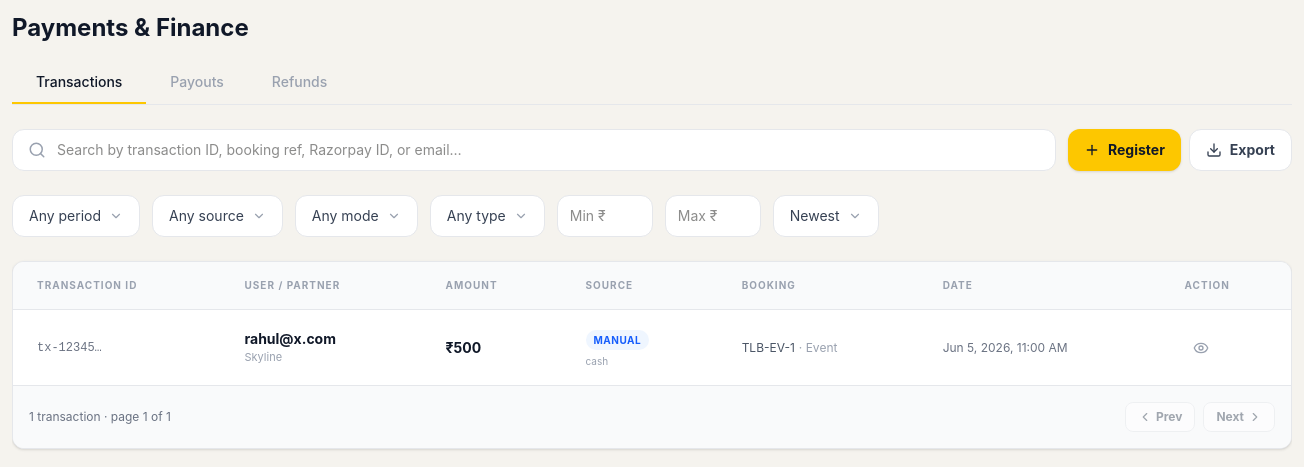
Test: PaymentsFinance › shows a coming-soon state for the Payouts tab
Expected: the text "rahul@x.com" is shown, [244,330,336,347]
Click the button "Payouts" at point(197, 82), box [146,60,248,104]
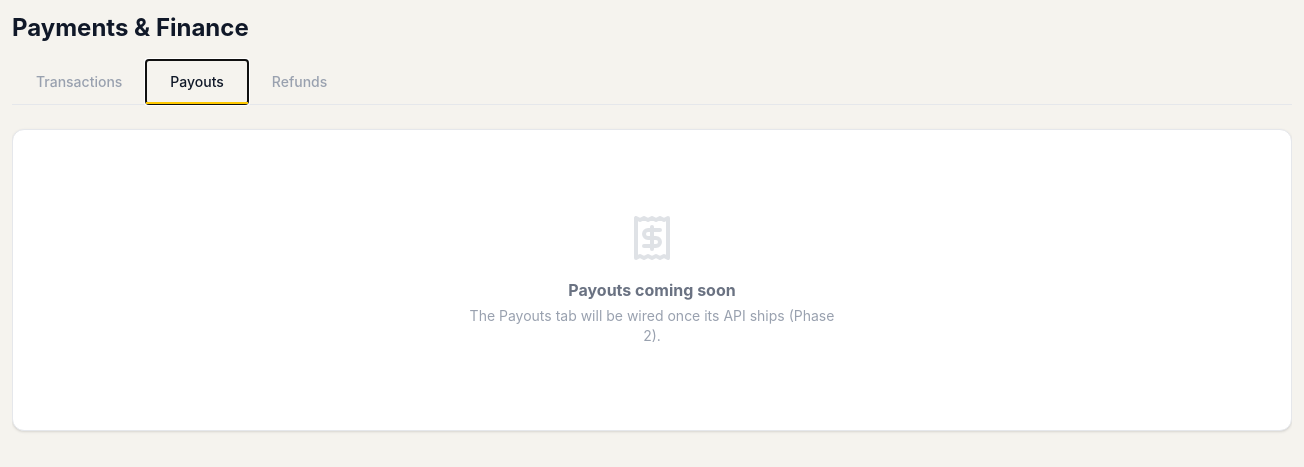
Result: the heading "Payouts coming soon" is shown at [568,278,736,302]
